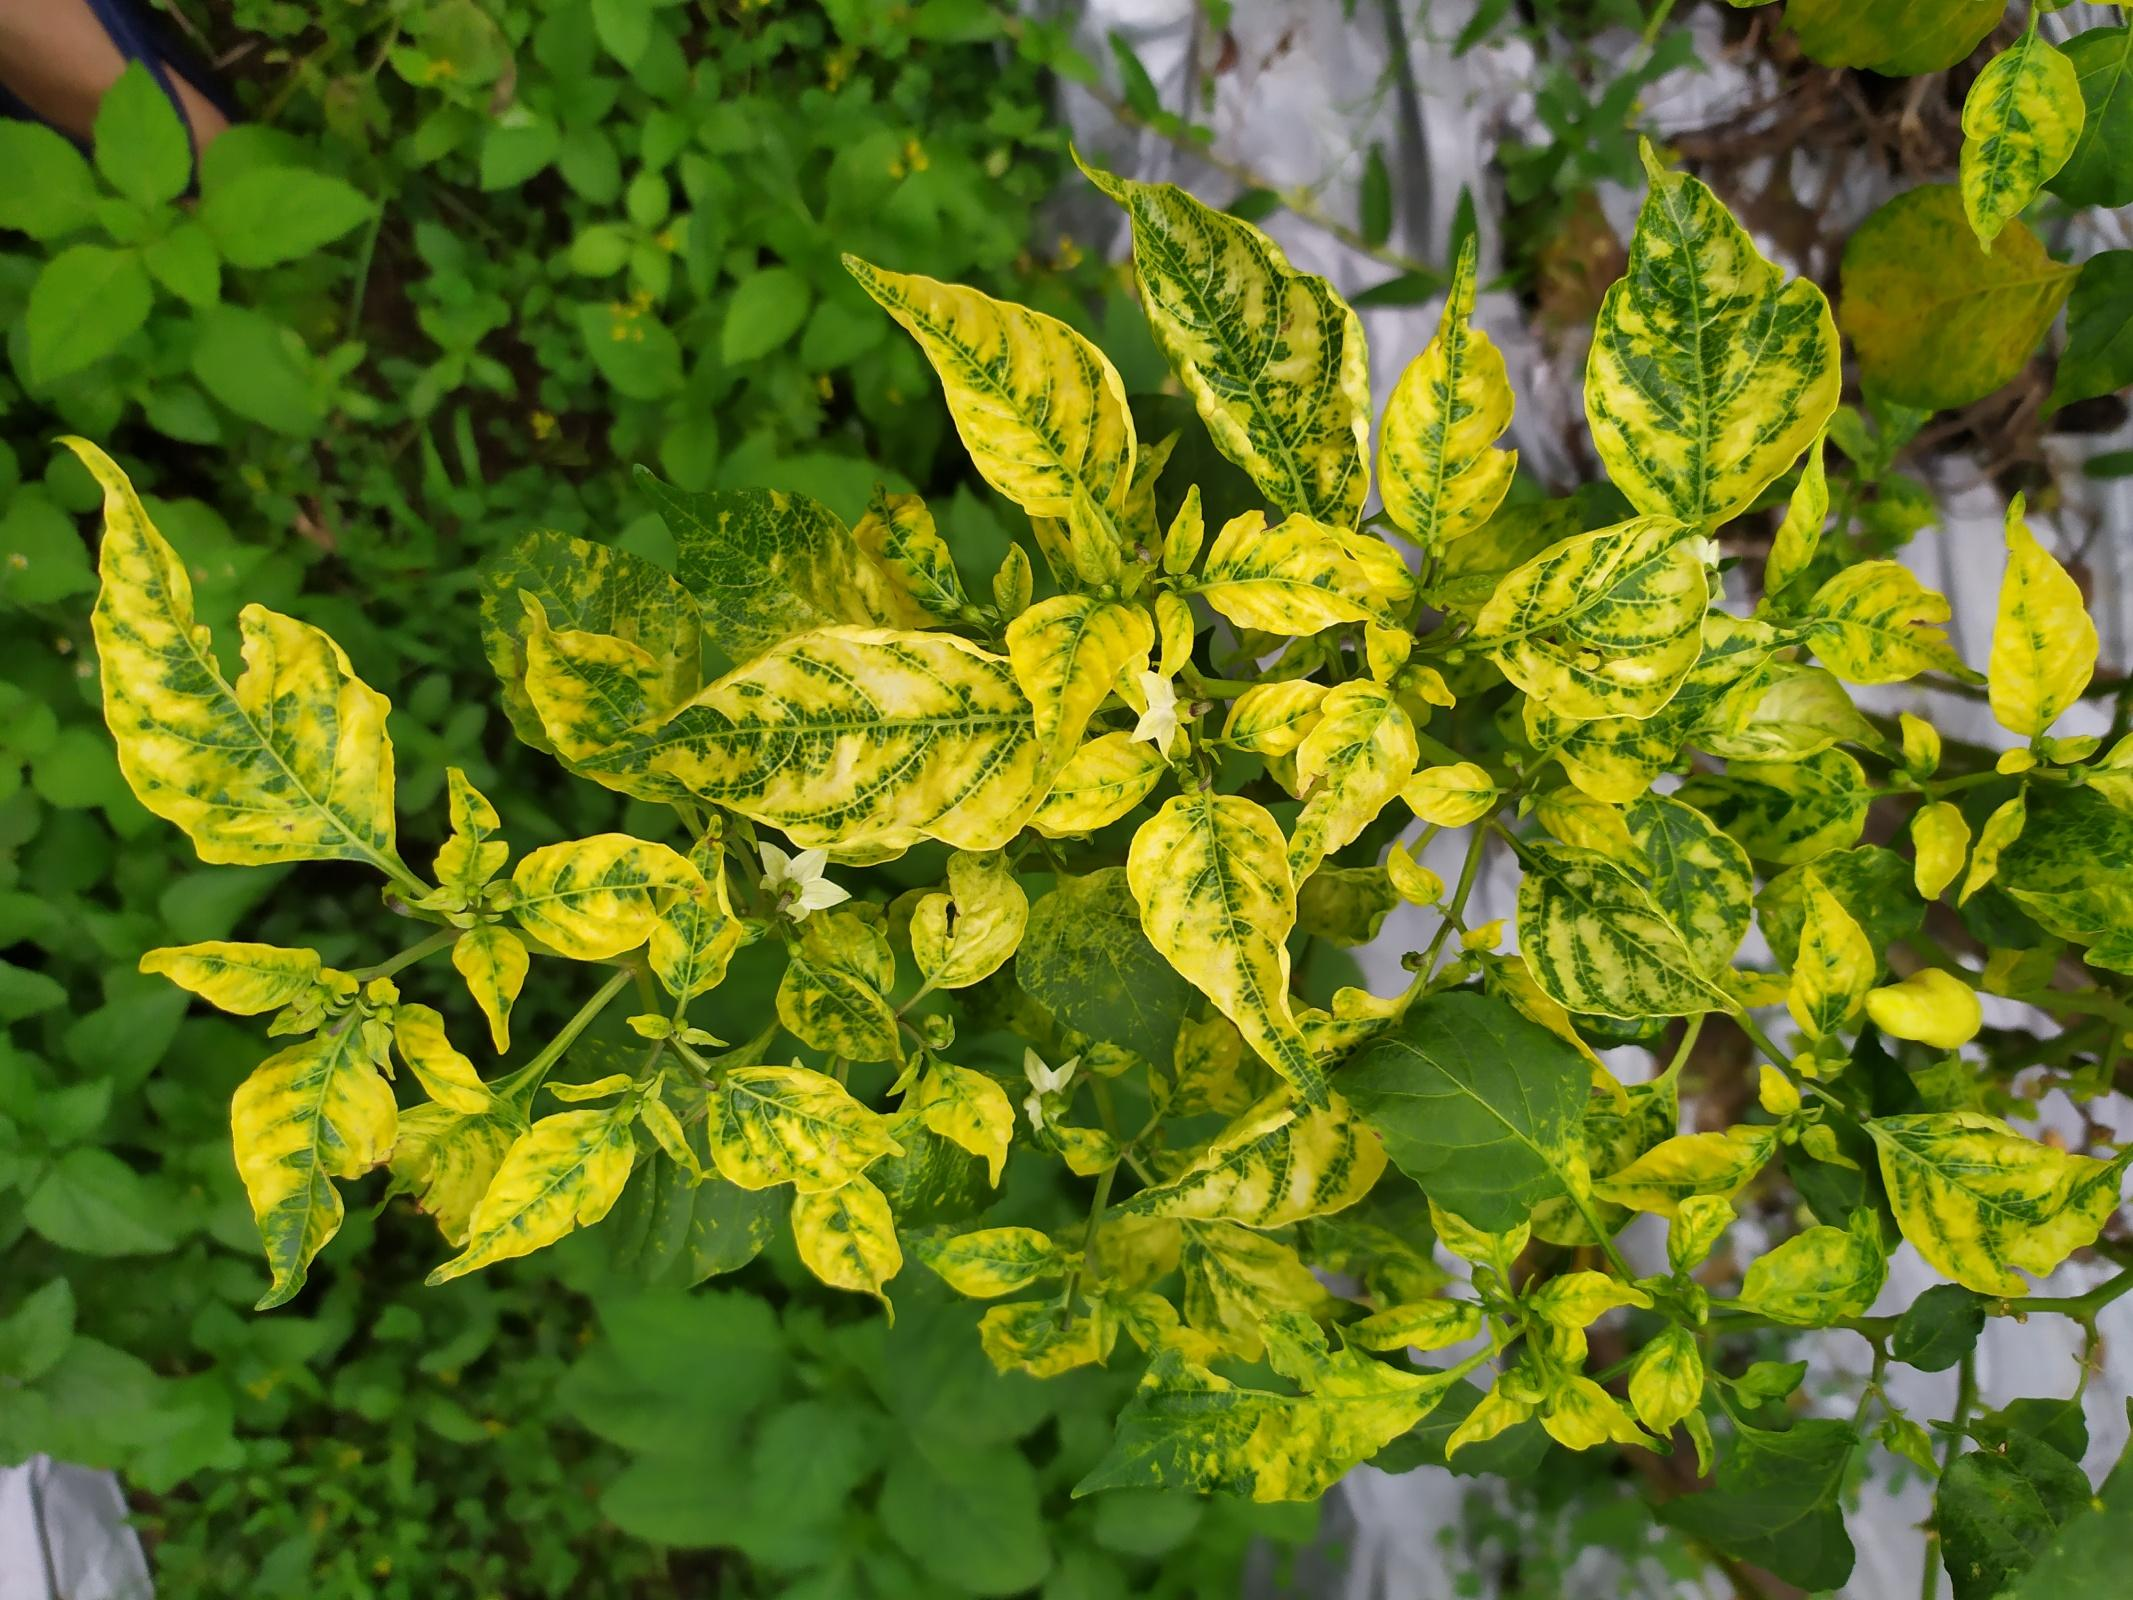cabai_normal: (1864, 967, 1985, 1050)
